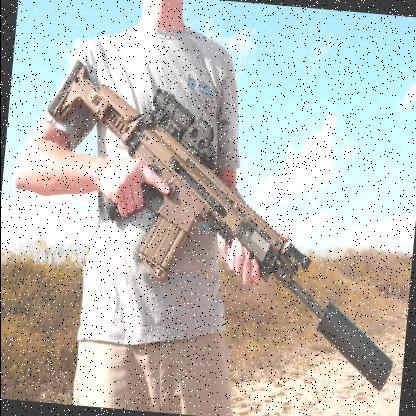rifle: (27, 44, 414, 394)
